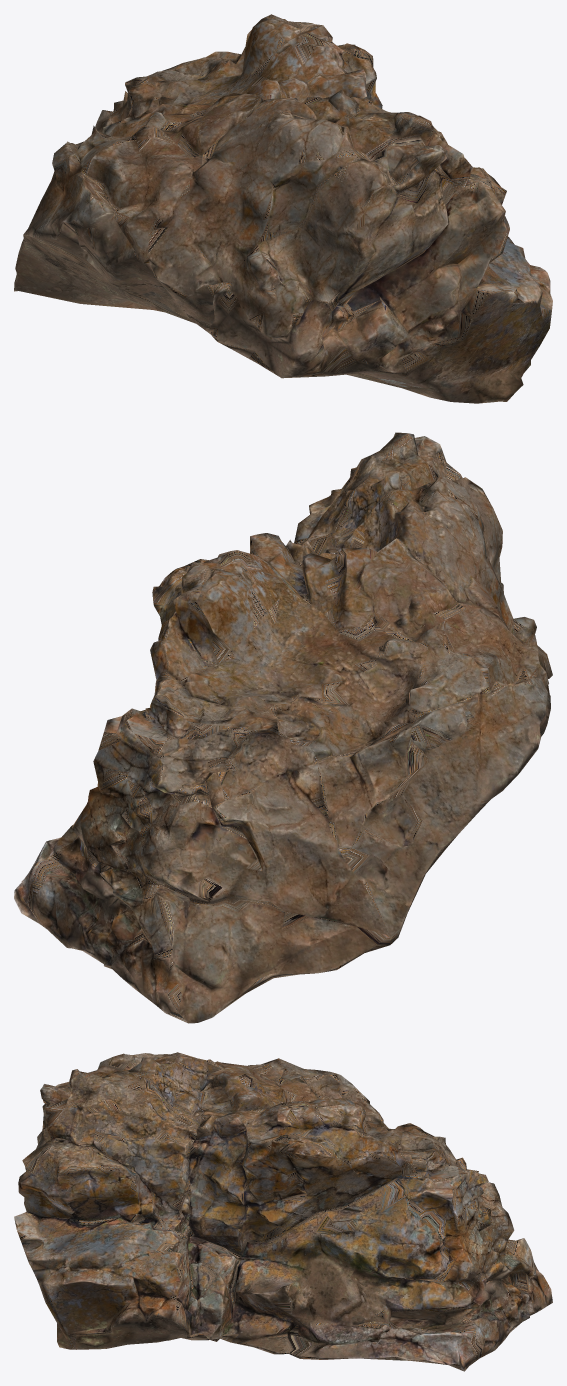
File: NaturalBoulder.glb
3 renders of one model, top to bottom at view 1: azimuth 30°, elevation 25°; view 2: azimuth 150°, elevation 25°; view 3: azimuth 270°, elevation 25°, orthographic. The views are drawn at different scales.
Visible parts, largest first — view 1: NaturalBoulder; view 2: NaturalBoulder; view 3: NaturalBoulder.
Part boxes in pixels (x1,y1,x2,y2): NaturalBoulder: (14, 14, 552, 403); NaturalBoulder: (14, 432, 552, 1023); NaturalBoulder: (14, 1052, 552, 1371).
Size of the model in its own units: 1.26 by 1 by 1.82.
1 material, 1 textured.
